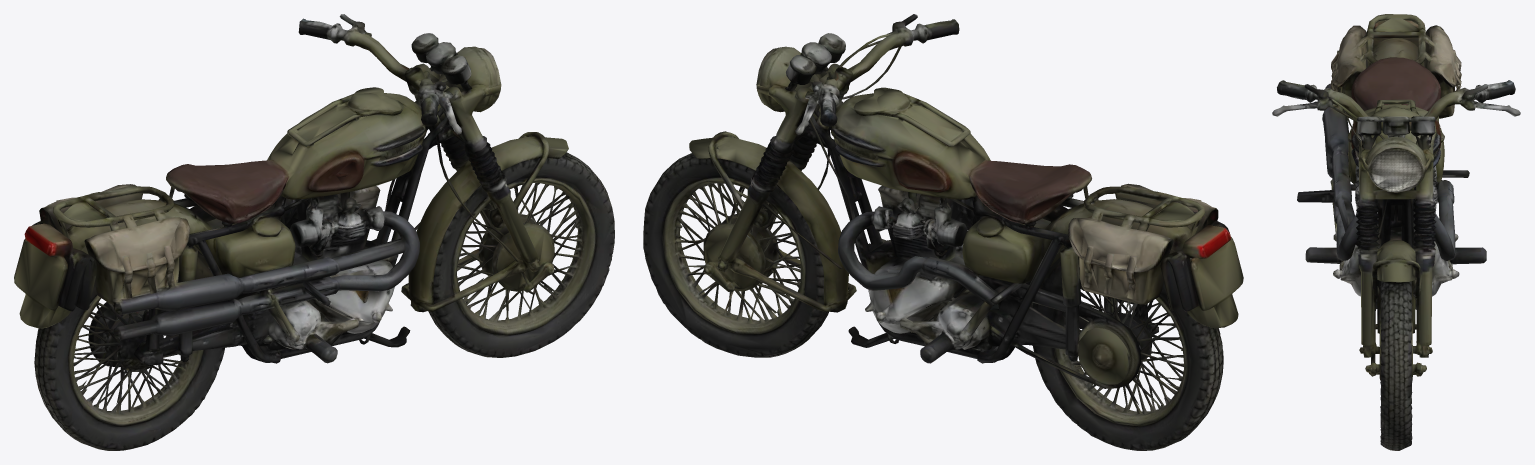
Rendered from triumph.glb.
3 renders of one model, left to right at view 1: azimuth 30°, elevation 25°; view 2: azimuth 150°, elevation 25°; view 3: azimuth 270°, elevation 25°, orthographic. The views are drawn at different scales.
Parts seen in each view (by area): view 1: node_0; view 2: node_0; view 3: node_0.
Boxes of the visible parts, x1,y1,x2,y2 form: node_0: (14, 14, 614, 450); node_0: (643, 14, 1243, 450); node_0: (1272, 14, 1520, 450).
Bounding box in the file's own units: 1.16 × 0.6297 × 0.4682.
Materials: 1 (1 with a texture image).
